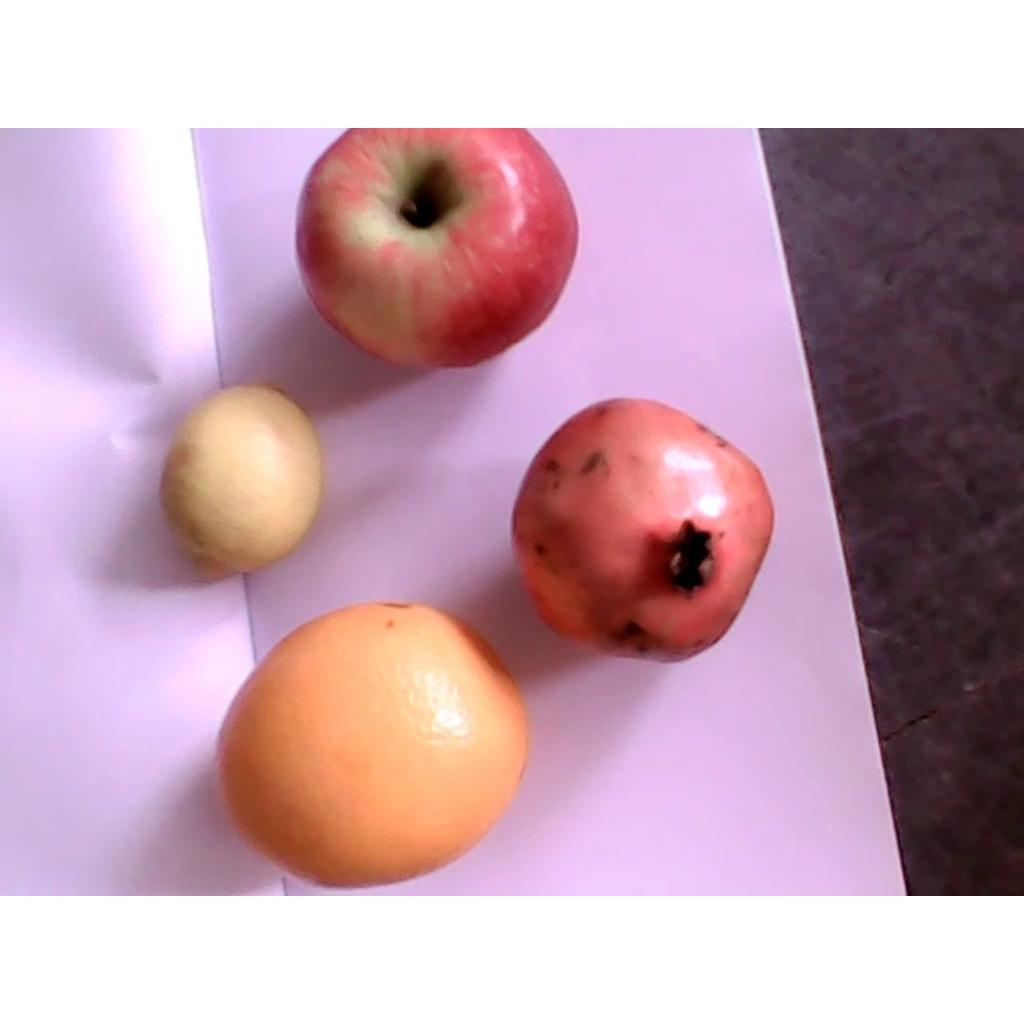apple: (298, 128, 579, 369)
lemon: (157, 380, 325, 581)
orange: (218, 601, 529, 892)
pomegranate: (511, 393, 773, 659)
